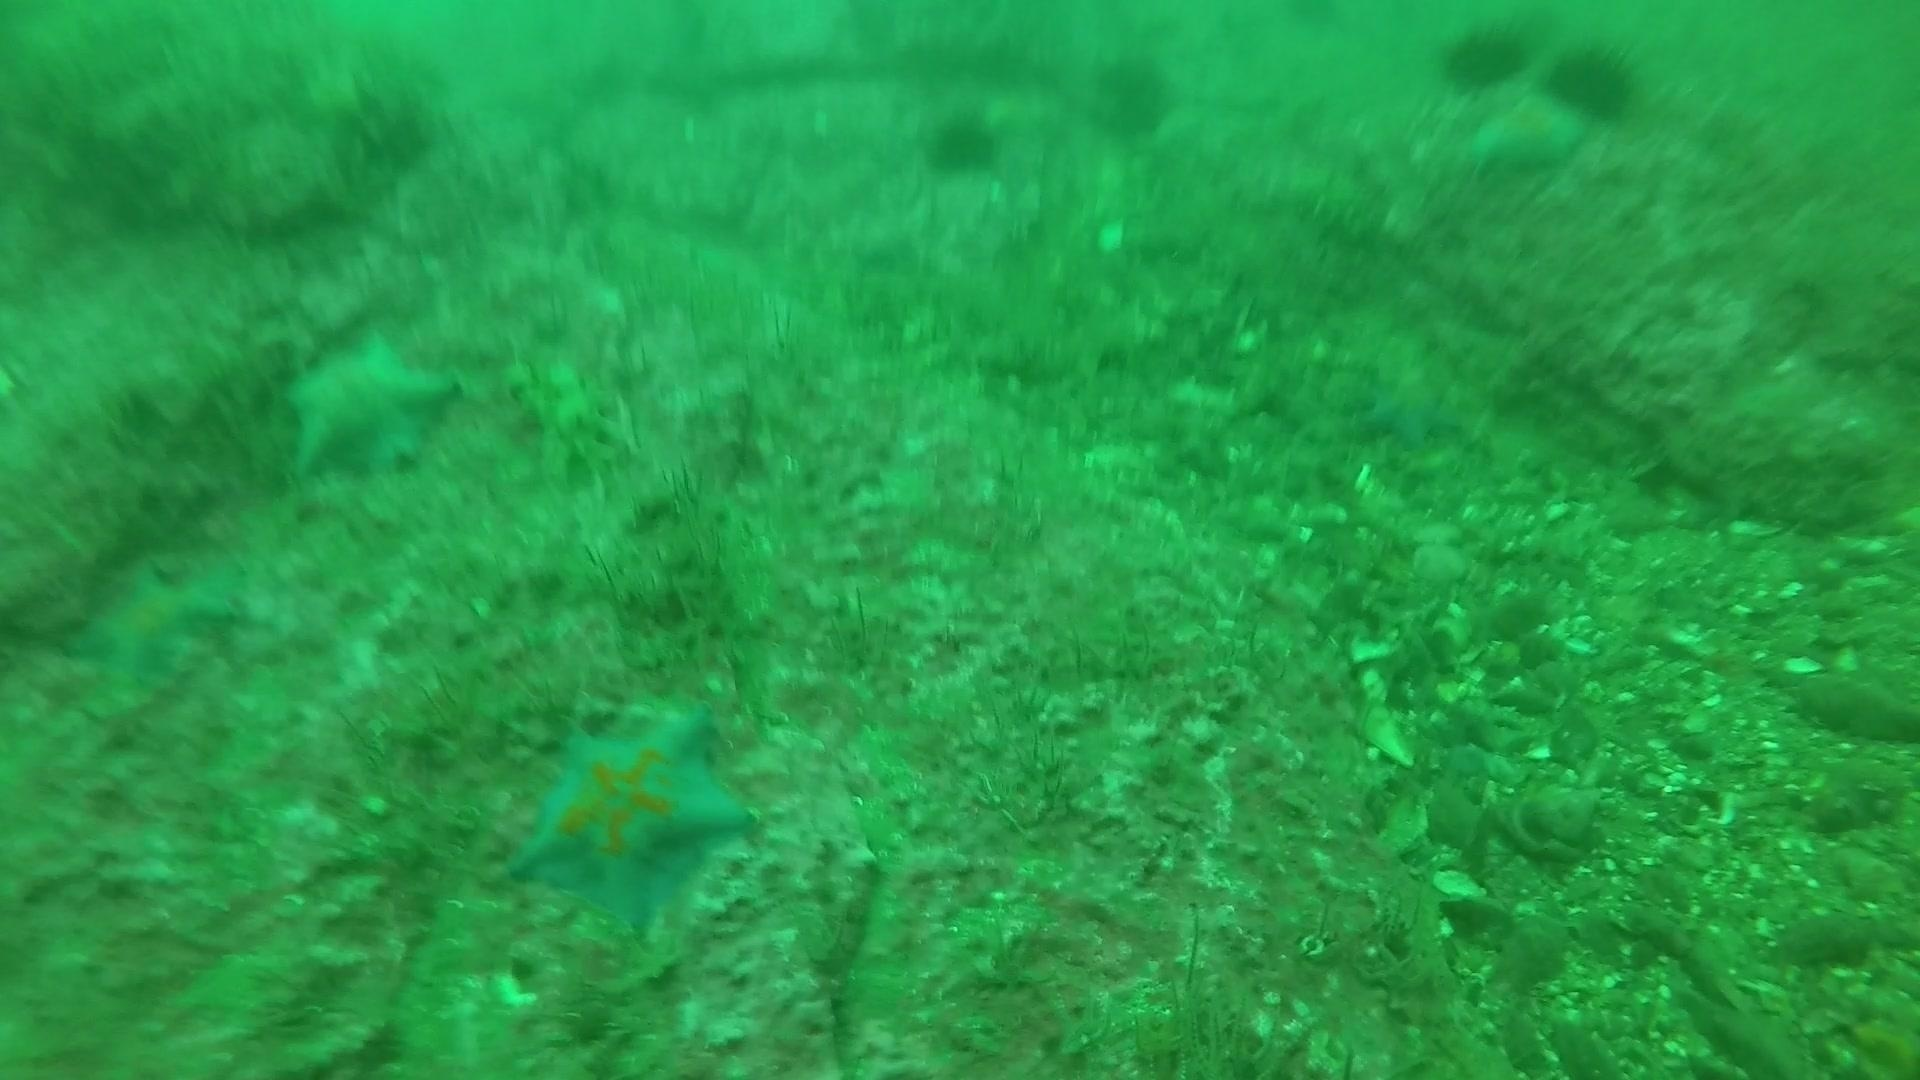echinus: (1542, 38, 1644, 125), (1087, 49, 1178, 144), (1435, 17, 1534, 98), (919, 104, 1007, 183)
starfish: (498, 699, 760, 947), (273, 322, 464, 488), (57, 551, 240, 696), (509, 351, 633, 487), (1462, 86, 1589, 179), (1350, 361, 1472, 454)
